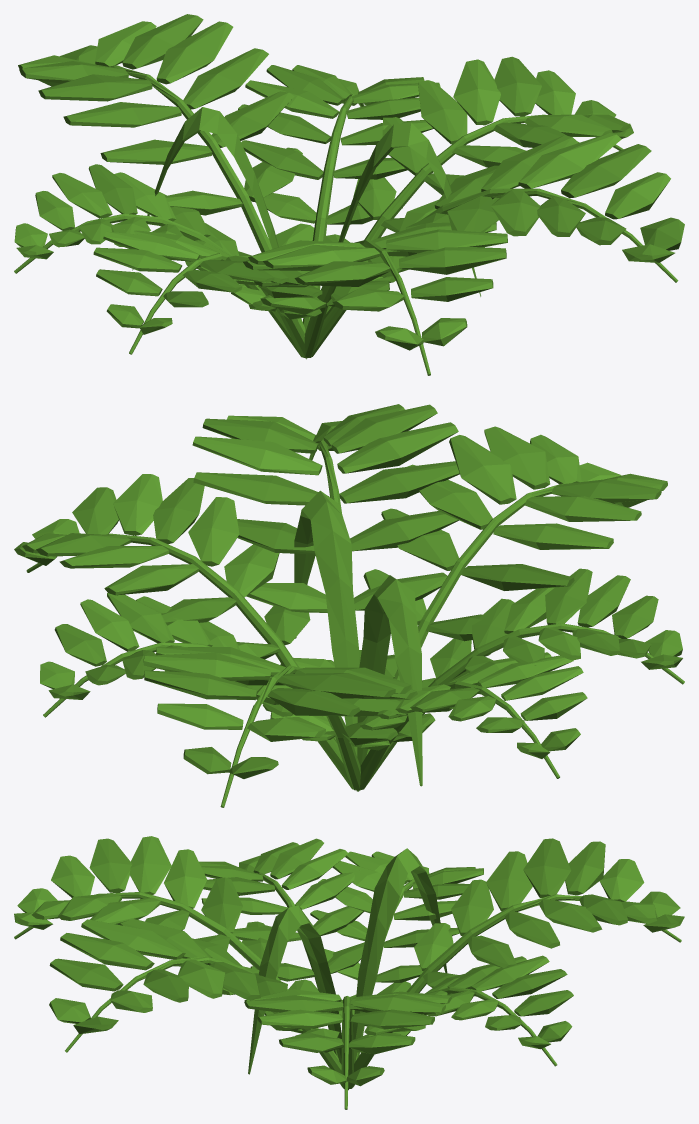
The model's file is 05_spreading_fern.glb.
The picture shows the model from 3 angles, top to bottom: view 1: azimuth 30°, elevation 25°; view 2: azimuth 150°, elevation 25°; view 3: azimuth 270°, elevation 25°; orthographic projection. The views are drawn at different scales.
Parts seen in each view (by area): view 1: 05_spreading_fern; view 2: 05_spreading_fern; view 3: 05_spreading_fern.
Part boxes in pixels (x1,y1,x2,y2): 05_spreading_fern: [14, 14, 684, 375]; 05_spreading_fern: [14, 404, 684, 807]; 05_spreading_fern: [14, 836, 684, 1109].
Size of the model in its own units: 1.84 by 0.7562 by 2.16.
